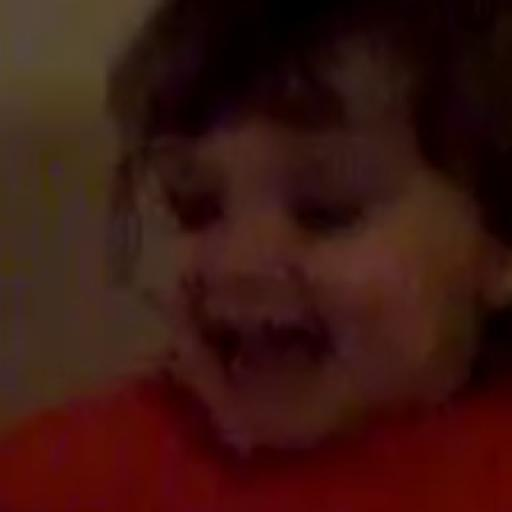Autism: (2, 0, 512, 469)
